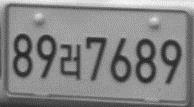6: (109, 35, 132, 83)
7: (84, 35, 108, 81)
8: (133, 37, 157, 83), (11, 33, 32, 77)
9: (159, 38, 183, 85), (36, 34, 57, 79)
러: (59, 42, 81, 81)
